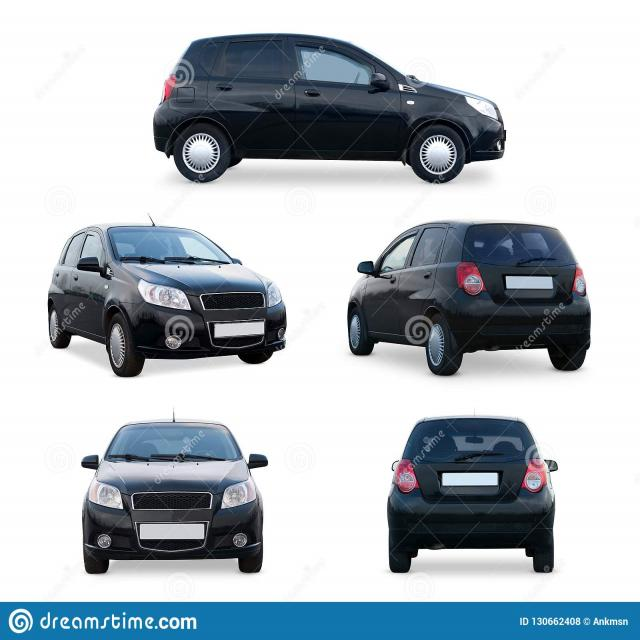yolov7-seg-car: (153, 33, 506, 184), (48, 211, 287, 377), (347, 219, 591, 375), (81, 407, 268, 574), (387, 406, 558, 573)
